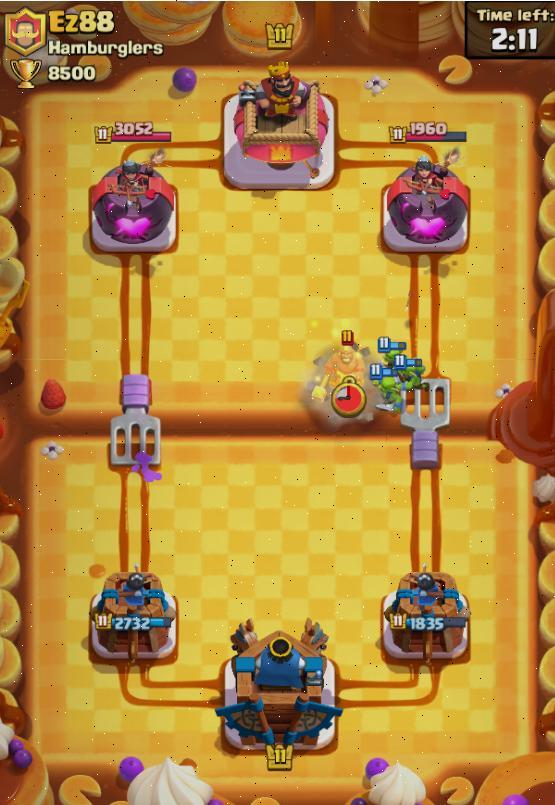EHogRider: (313, 330, 369, 417)
EKingTower: (223, 63, 335, 189)
EnemyPrincessTower: (382, 159, 468, 253), (90, 160, 174, 253)
OGoblin: (370, 364, 410, 412), (377, 336, 420, 370), (389, 353, 425, 393)
OwnKingTower: (216, 619, 341, 750)
OwnPrincessTower: (383, 571, 469, 662), (91, 570, 175, 662)
